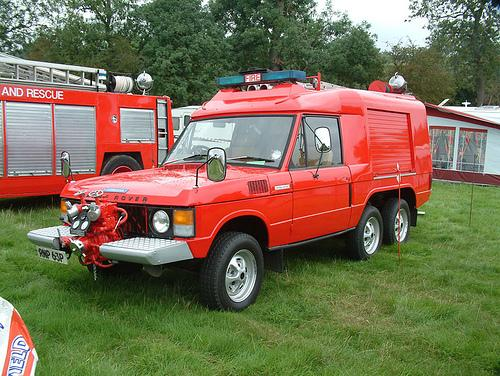truck: (27, 67, 433, 313), (0, 45, 172, 209)
